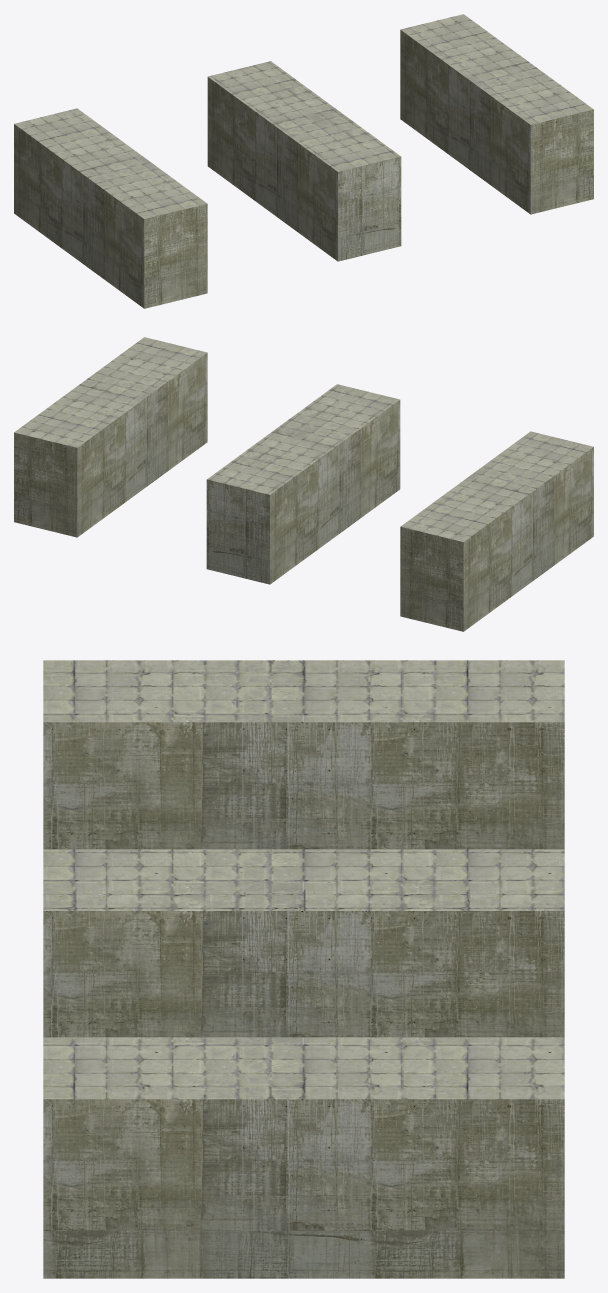
File: SM_LDFest_06_SHADOW.fbx
3 renders of one model, top to bottom at view 1: azimuth 30°, elevation 25°; view 2: azimuth 150°, elevation 25°; view 3: azimuth 270°, elevation 25°, orthographic. The views are drawn at different scales.
Visible parts, largest first — view 1: SM_LDFest_00_SHADOW.002, SM_LDFest_06_SHADOW; view 2: SM_LDFest_00_SHADOW.002, SM_LDFest_06_SHADOW; view 3: SM_LDFest_00_SHADOW.002, SM_LDFest_06_SHADOW.
Part boxes in pixels (x1=…): SM_LDFest_00_SHADOW.002: x1=14, y1=14, x2=593, y2=308; SM_LDFest_06_SHADOW: x1=207, y1=61, x2=401, y2=261; SM_LDFest_00_SHADOW.002: x1=14, y1=337, x2=593, y2=631; SM_LDFest_06_SHADOW: x1=206, y1=384, x2=400, y2=584; SM_LDFest_00_SHADOW.002: x1=43, y1=660, x2=564, y2=1278; SM_LDFest_06_SHADOW: x1=43, y1=849, x2=564, y2=1037.
Size of the model in its own units: 3792 by 723 by 1904.
